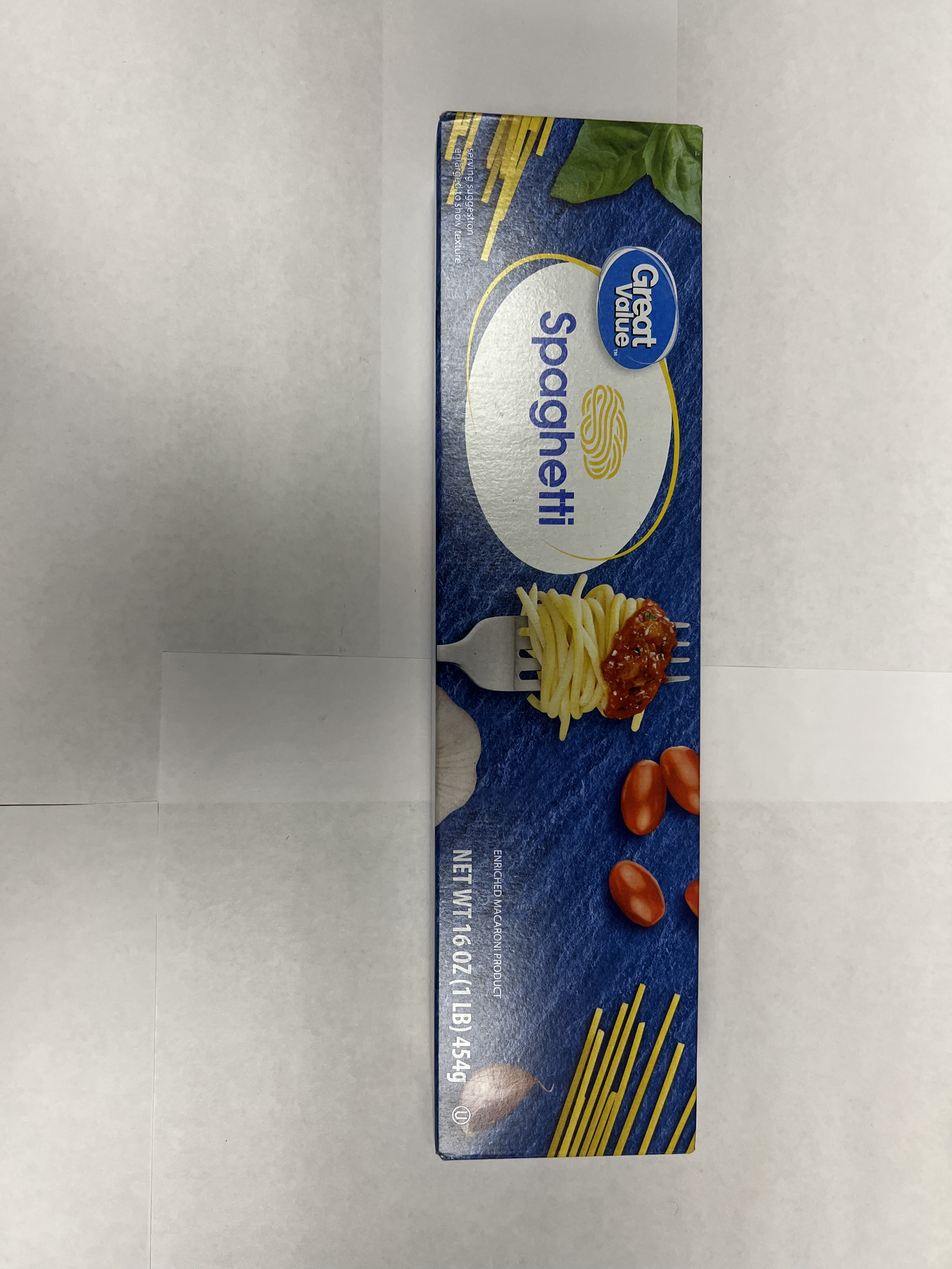packaged: (423, 105, 711, 1166)
